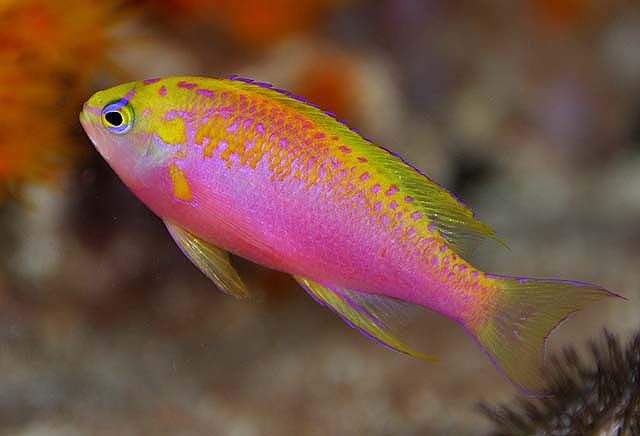fish: (79, 75, 630, 396)
